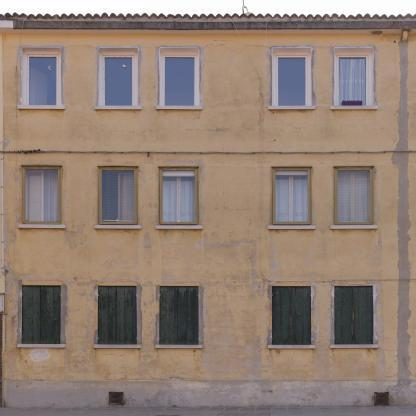Building Outline: (0, 12, 416, 408)
Facade: (1, 13, 415, 408)
Floor: (1, 160, 414, 269)
Floor Slab: (1, 268, 414, 278), (1, 151, 414, 160)
Ground Floor: (1, 278, 414, 408)
Sill: (94, 105, 142, 110), (268, 105, 316, 110), (330, 225, 378, 230), (330, 106, 378, 110), (330, 345, 378, 349), (268, 345, 316, 349), (155, 345, 203, 349), (93, 344, 141, 348), (17, 344, 65, 348), (18, 106, 66, 110), (155, 106, 203, 110), (18, 224, 66, 228), (94, 225, 142, 229), (155, 225, 203, 229), (268, 225, 316, 229)
Top Floor: (1, 29, 414, 151)
Window: (335, 286, 374, 345), (22, 285, 61, 344), (98, 286, 137, 345), (160, 286, 199, 345), (272, 286, 311, 345), (100, 168, 137, 225), (23, 168, 60, 224), (161, 169, 197, 225), (274, 169, 310, 225), (337, 169, 372, 225), (163, 55, 196, 106), (337, 55, 368, 106), (27, 55, 58, 105), (103, 56, 134, 106), (276, 56, 307, 106)
